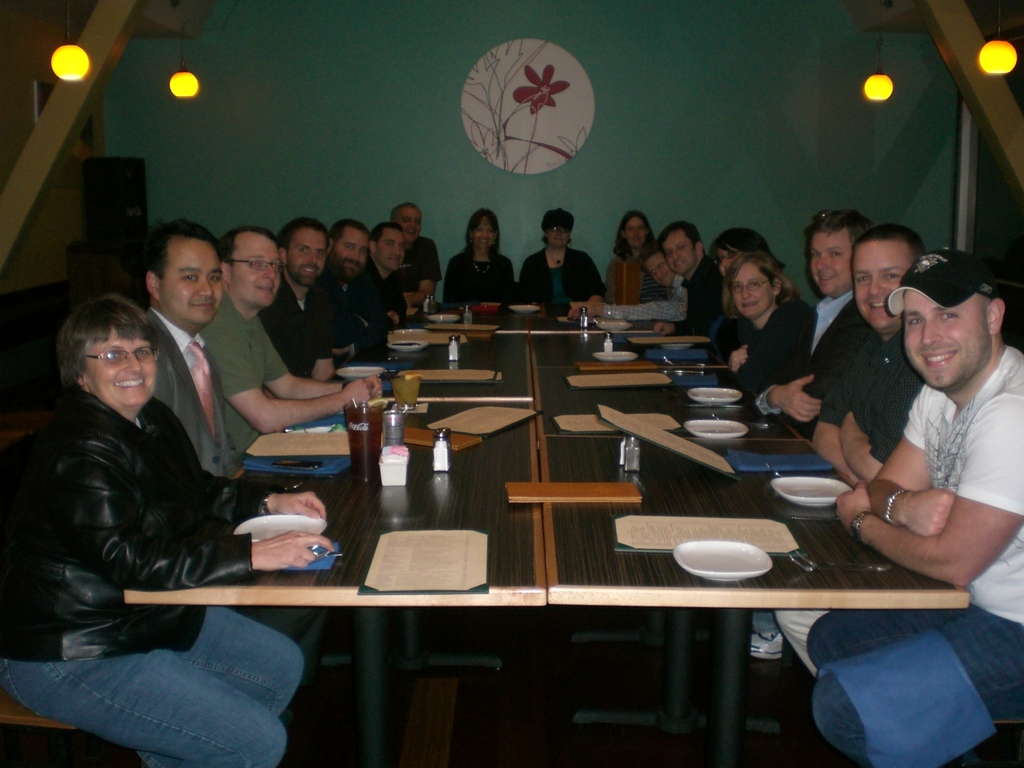plate: (673, 541, 772, 581)
